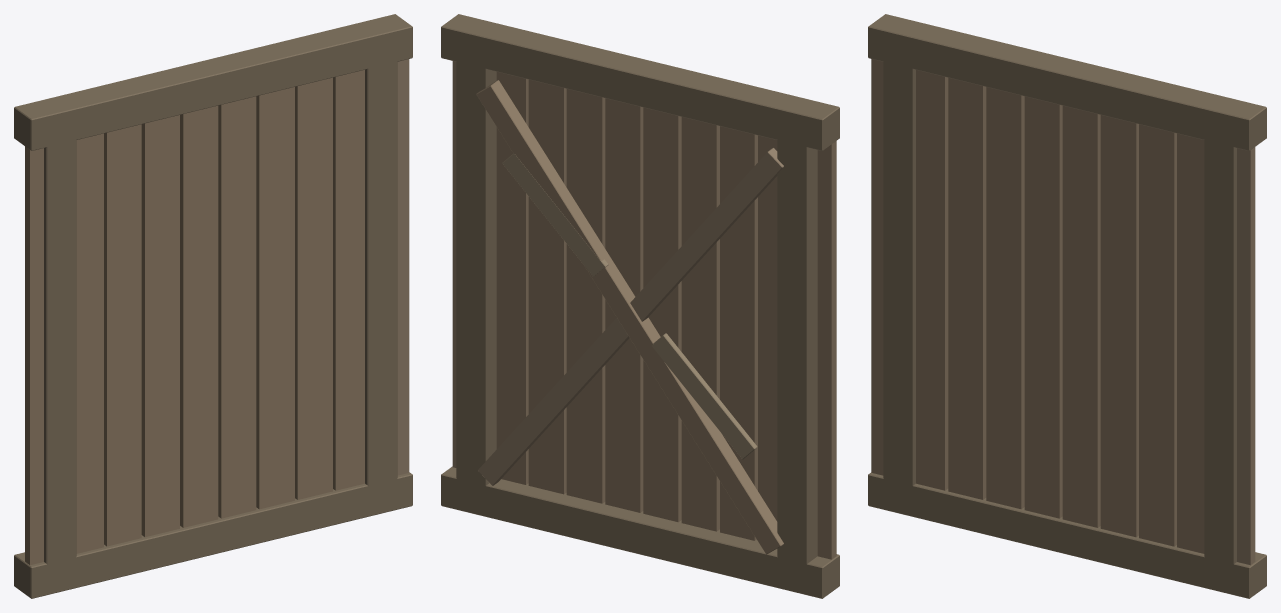
The model's file is env_wall_plank_crossbraced_b_v05_diagonal_patches.glb.
3 views of the same model, side by side, from view 1: azimuth 30°, elevation 25°; view 2: azimuth 150°, elevation 25°; view 3: azimuth 330°, elevation 25° (orthographic).
Parts seen in each view (by area): view 1: material_0, material_2, material_1; view 2: material_0, material_2, material_1, material_3; view 3: material_0, material_2, material_1.
Part boxes in pixels (x1,y1,x2,y2): material_0: (25, 70, 364, 565); material_2: (14, 14, 412, 598); material_1: (397, 59, 409, 475); material_0: (476, 72, 836, 559); material_2: (441, 14, 839, 598); material_1: (452, 61, 783, 485); material_3: (502, 153, 757, 459); material_0: (871, 59, 1204, 553); material_2: (868, 14, 1266, 598); material_1: (1237, 147, 1255, 565).
Bounding box in the file's own units: 2 × 2.4 × 0.19.
